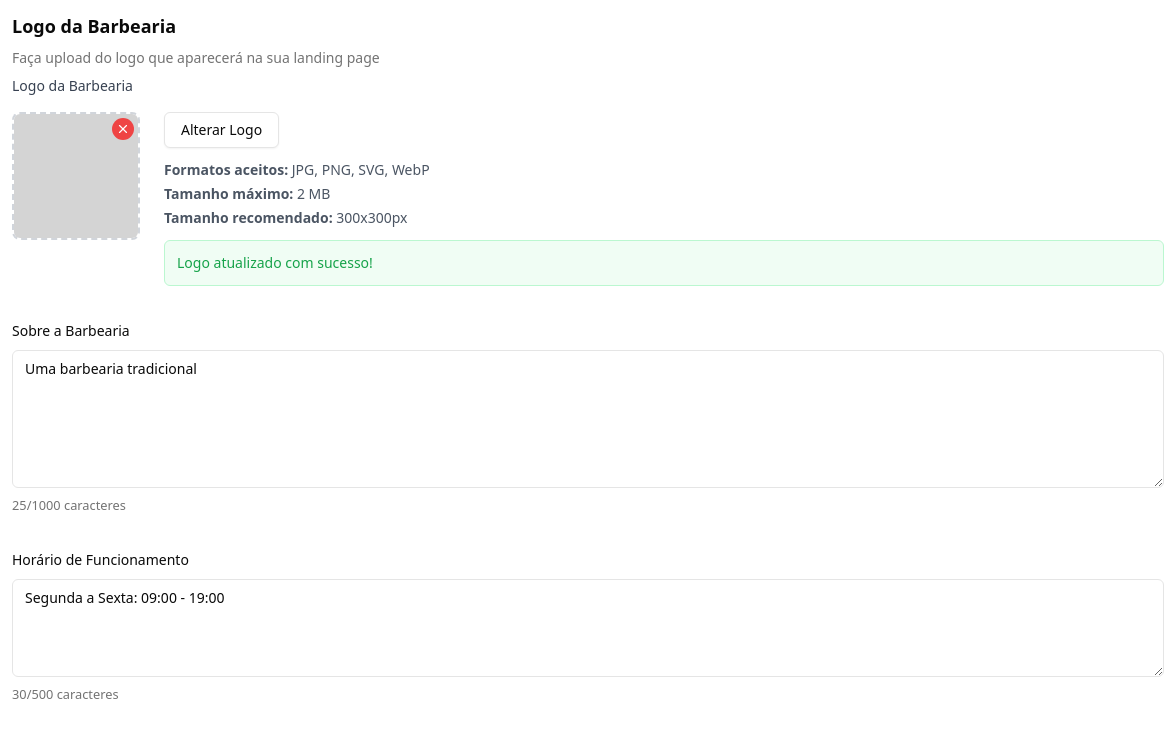
it: LandingPageForm › Validation › should show aboutText character counter
Replace the text in the text box labelled "Sobre a Barbearia" with "Test" at x=588, y=419, box [12,350,1164,488]
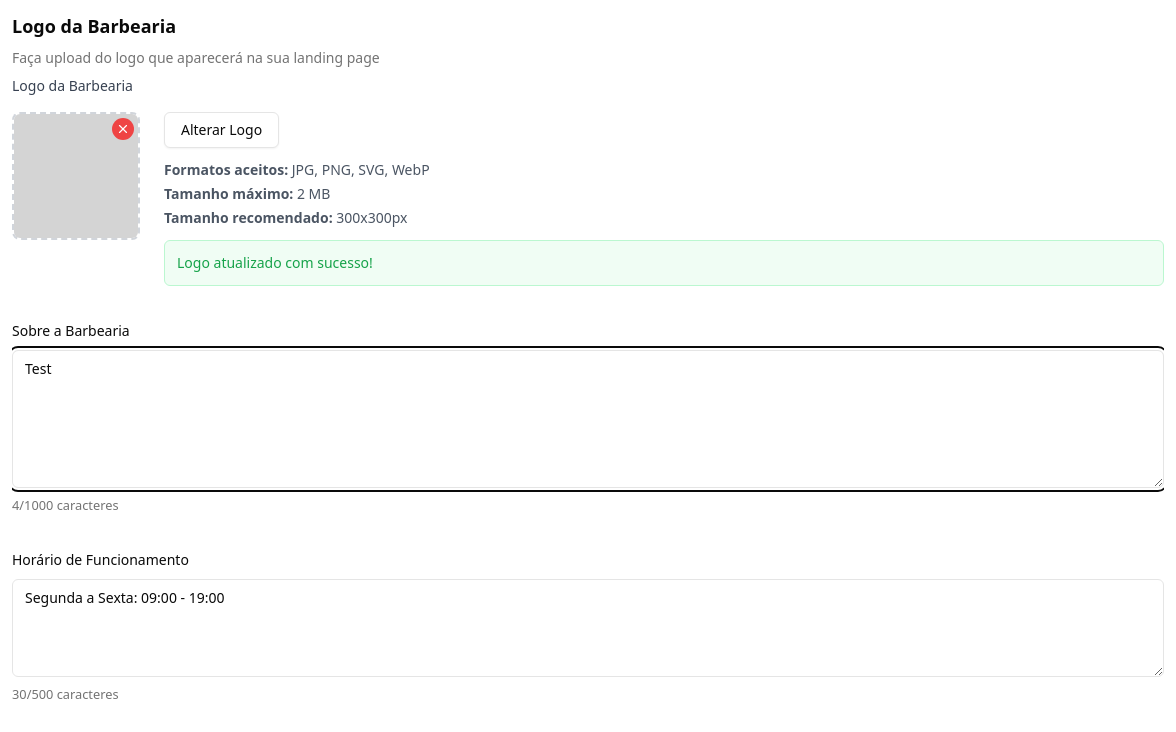
Now the text "4/1000 caracteres" is shown, box [12,496,119,514]
